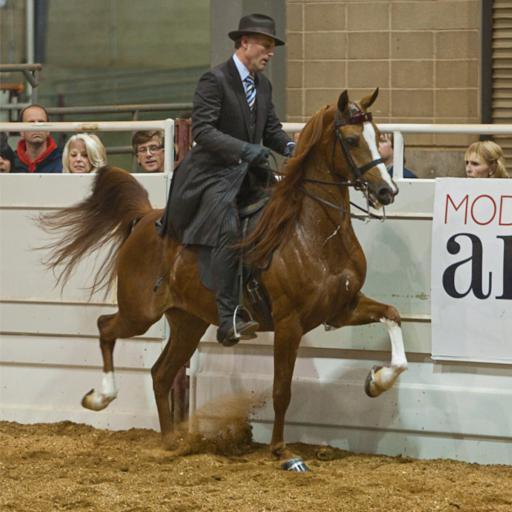horse: (27, 88, 408, 474)
